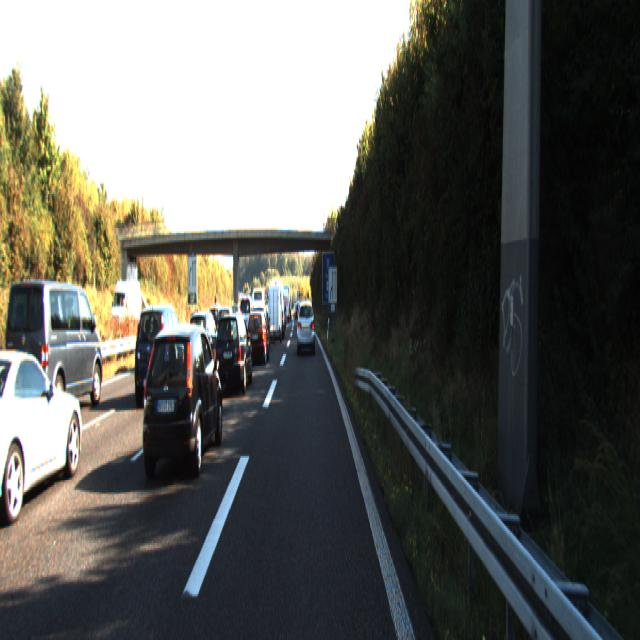Car: (0, 343, 87, 530), (5, 276, 105, 427), (140, 322, 224, 485), (133, 301, 187, 405), (212, 310, 253, 398), (244, 310, 270, 366), (296, 297, 315, 353), (267, 286, 284, 345)
